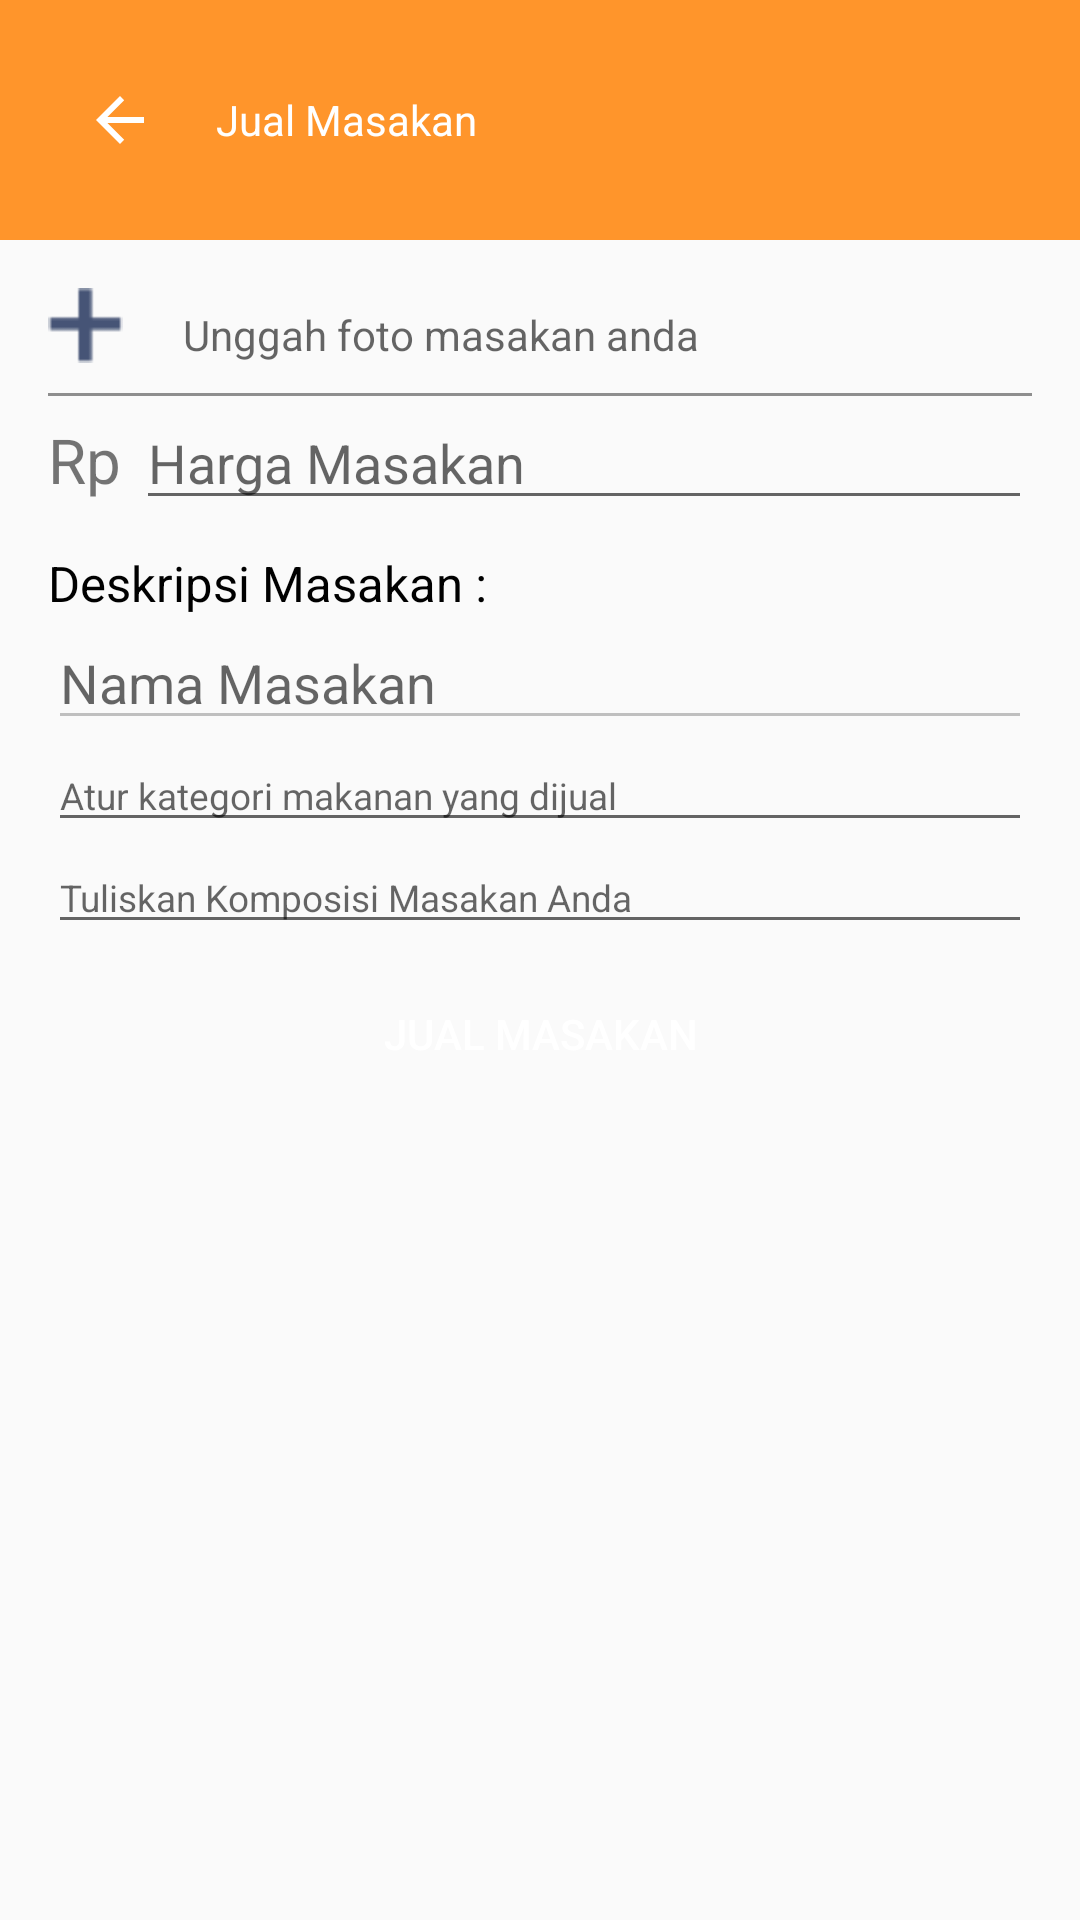

Named icons in this screenshot (1080px x 1920px) and their bounding boxes, rect(x1, y1, x2, y2):
tambah: rect(48, 288, 122, 363)
